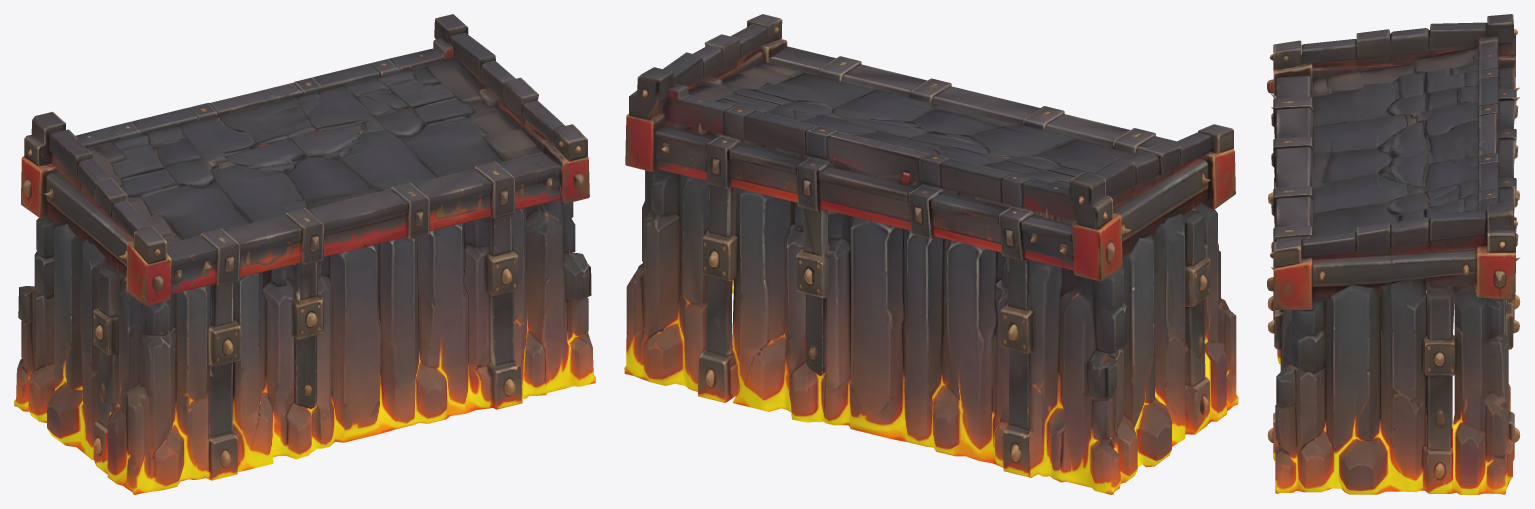
File: SM_Tripo_InfernoCausewaySegment.glb
3 renders of one model, left to right at view 1: azimuth 30°, elevation 25°; view 2: azimuth 150°, elevation 25°; view 3: azimuth 270°, elevation 25°, orthographic. The views are drawn at different scales.
Visible parts, largest first — view 1: SM_Tripo_InfernoCausewaySegment_LOD0; view 2: SM_Tripo_InfernoCausewaySegment_LOD0; view 3: SM_Tripo_InfernoCausewaySegment_LOD0.
Boxes of the visible parts, <box> form: SM_Tripo_InfernoCausewaySegment_LOD0: <box>14,14,595,494</box>; SM_Tripo_InfernoCausewaySegment_LOD0: <box>624,14,1238,494</box>; SM_Tripo_InfernoCausewaySegment_LOD0: <box>1267,14,1520,494</box>.
Size of the model in its own units: 8.48 by 5 by 4.14.
1 material, 1 textured.
